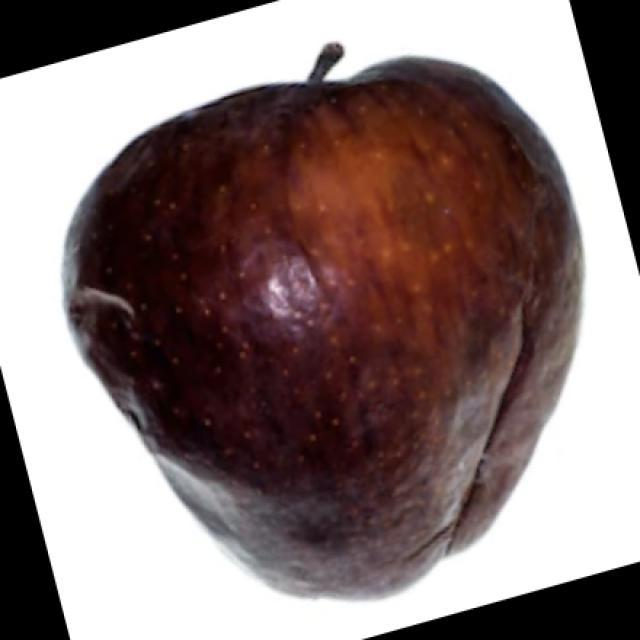Rotten: (60, 65, 588, 605)
